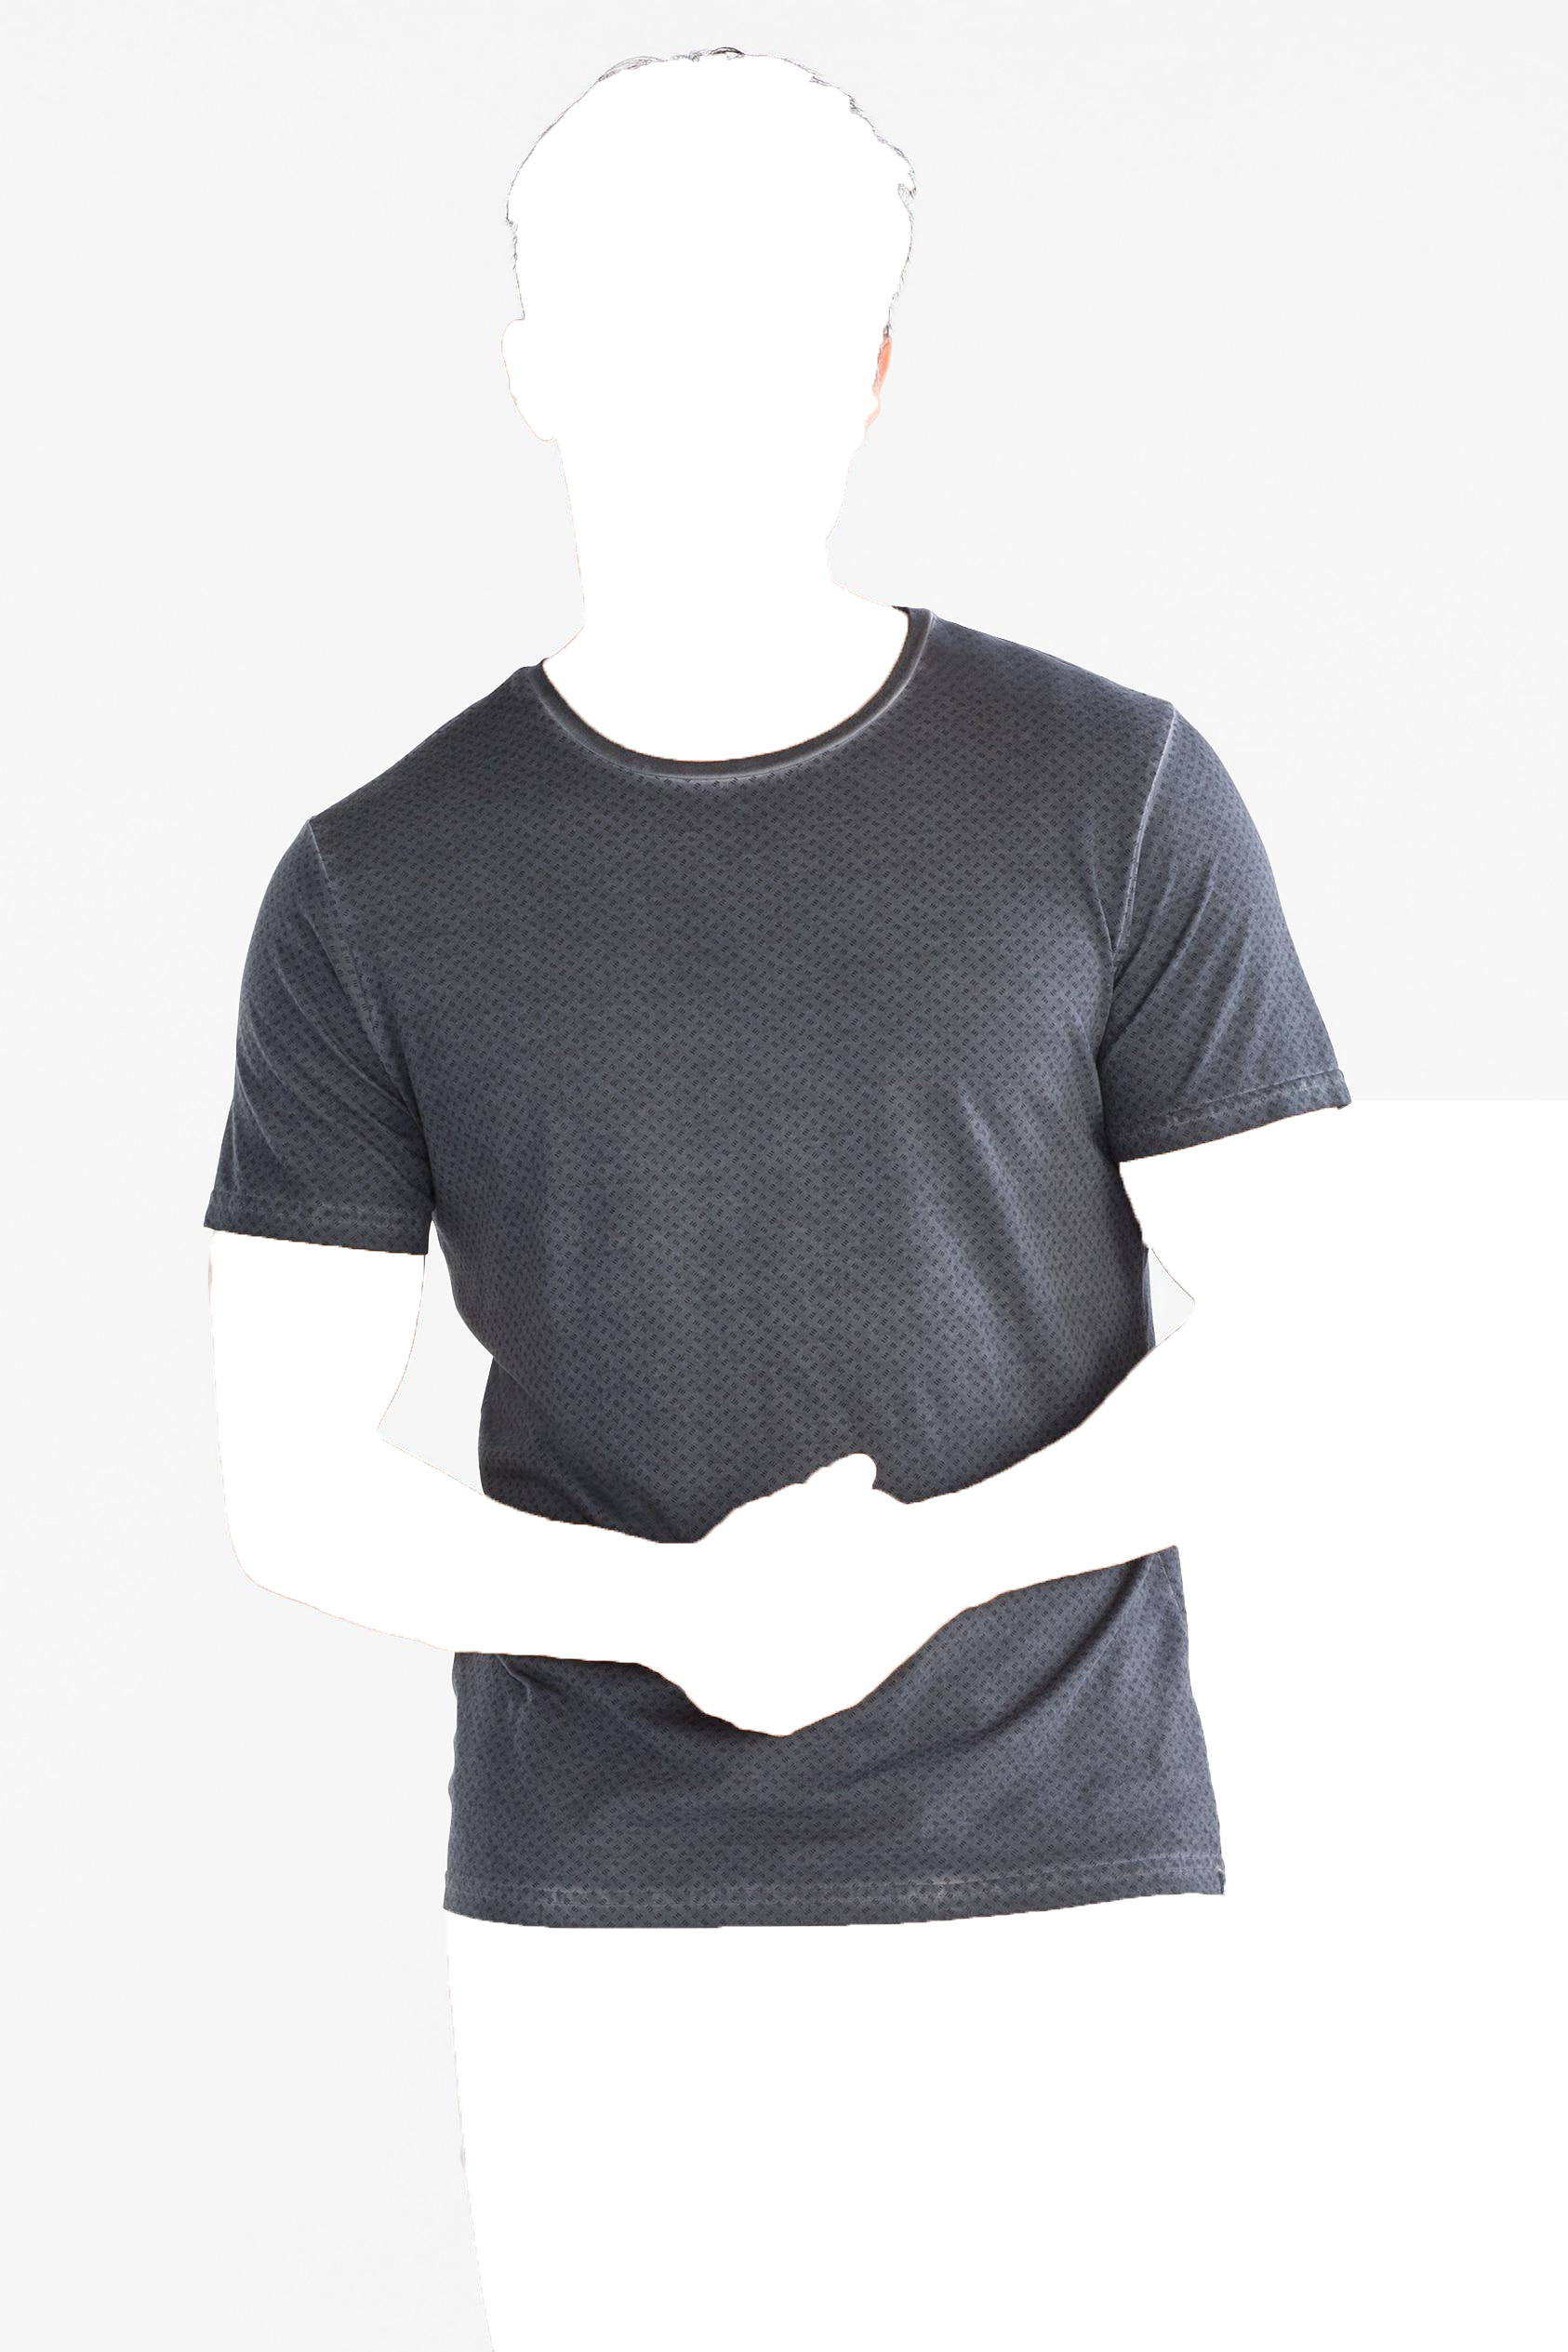teeshirt: (159, 621, 1409, 1937)
